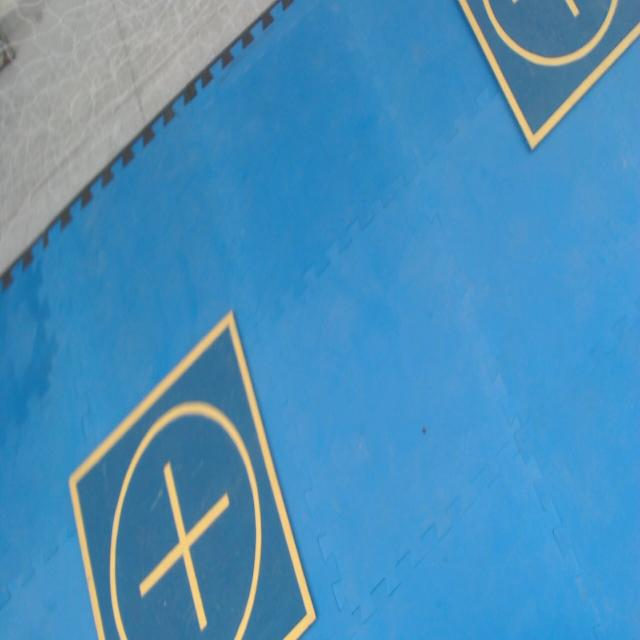base_pouso: (69, 305, 317, 639), (458, 0, 640, 156)
